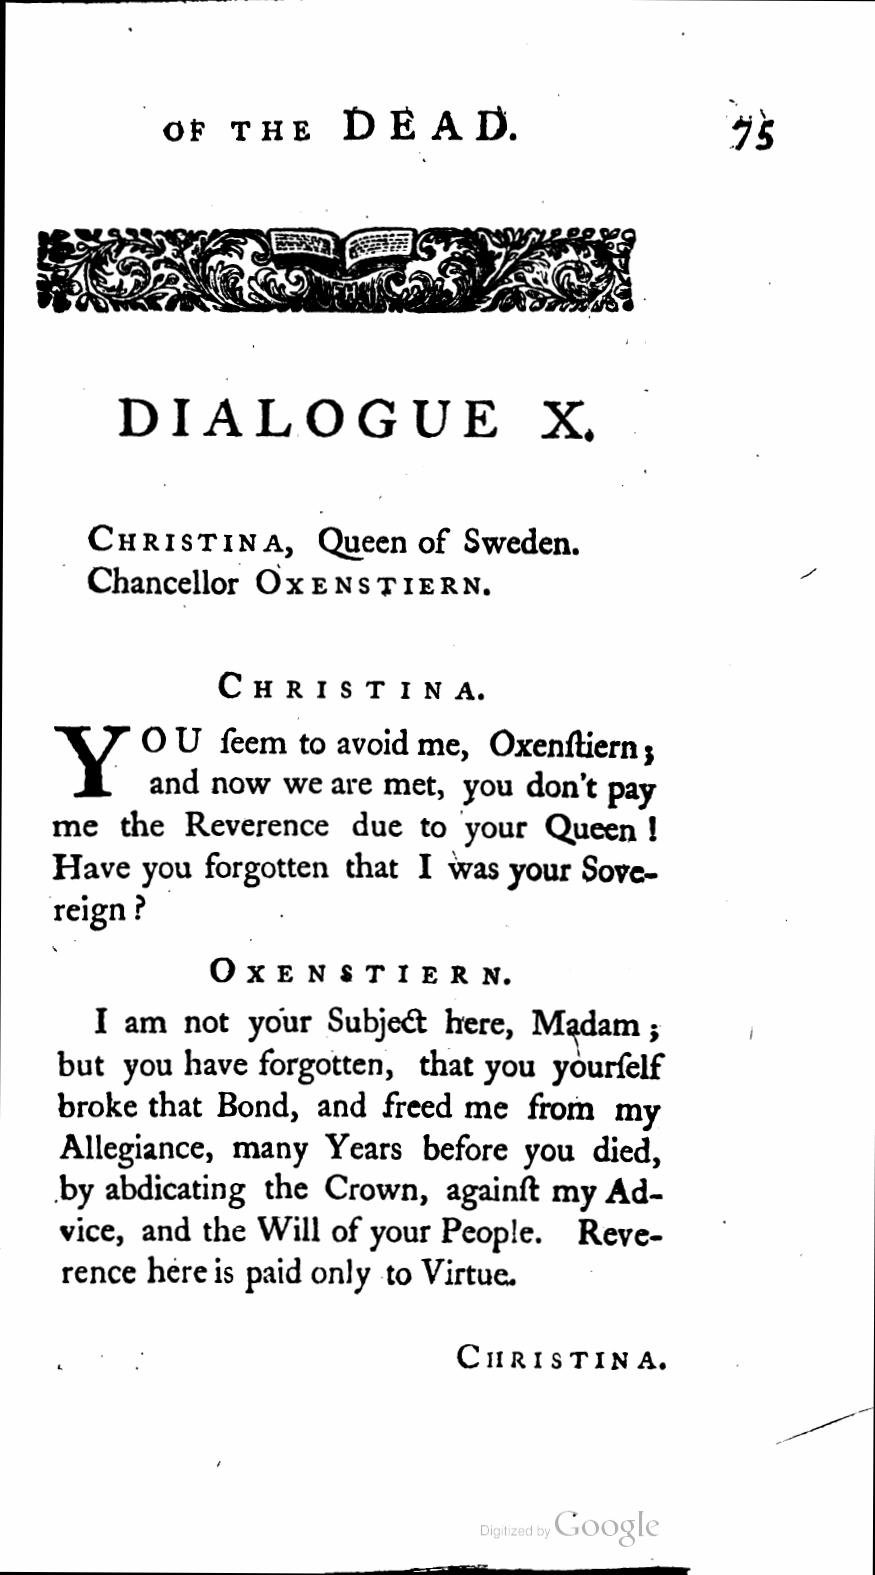catchword: (450, 1330, 669, 1382)
full_p: (53, 998, 677, 1294), (43, 714, 666, 936), (77, 514, 588, 603), (116, 384, 597, 446), (210, 952, 519, 995), (210, 665, 492, 707)
header: (156, 94, 525, 147)
initial_l: (43, 711, 136, 811)
page_num: (723, 111, 778, 157)
